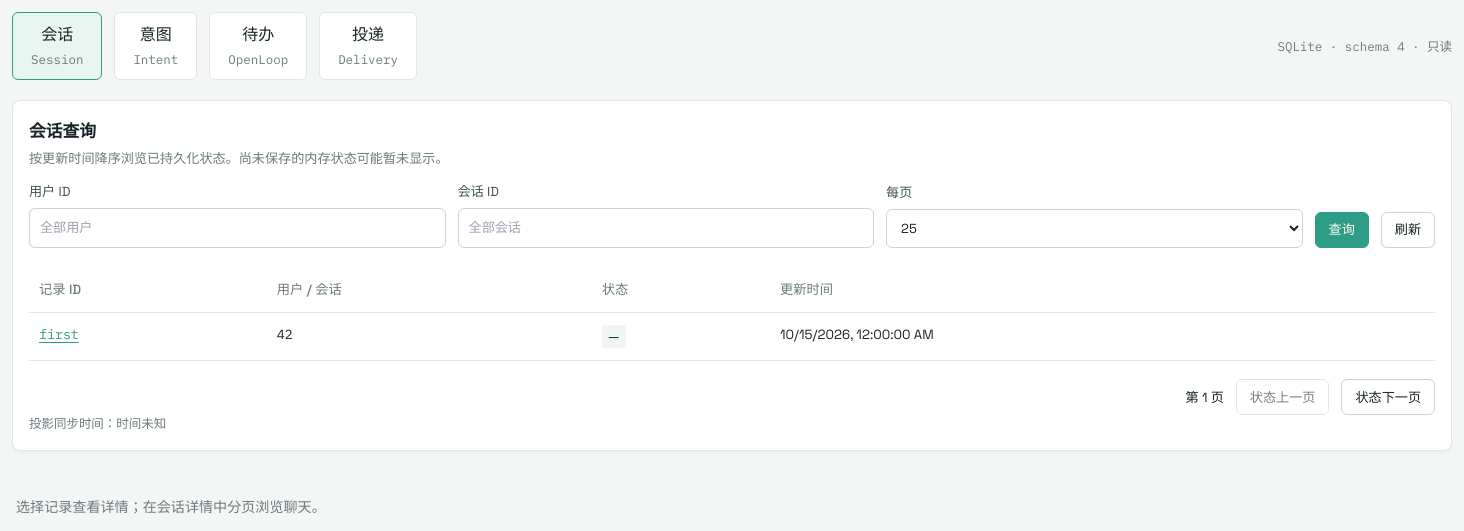
Test case: state queries › discards stale pagination and restarts from the first page on 409
Click the button "状态下一页" at [1388, 397], box [1341,379,1435,415]
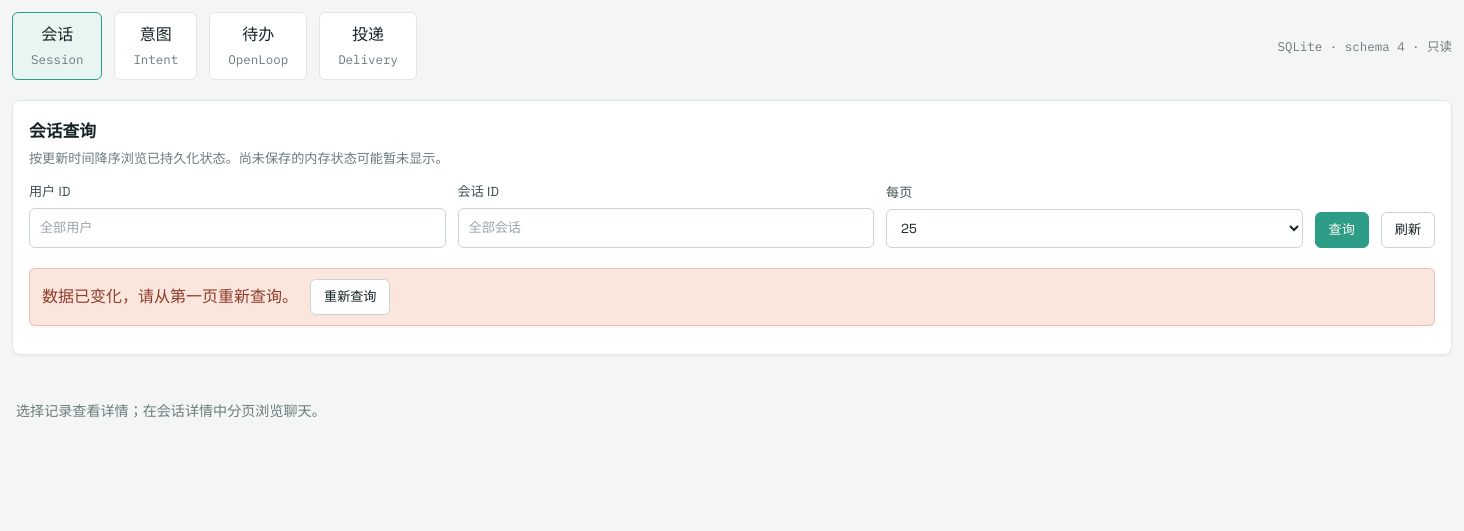
Expected: the message "数据已变化，请从第一页重新查询。 重新查询" is shown, [29,268,1435,326]
Click the button "重新查询" at [350, 297], box [310,279,390,315]
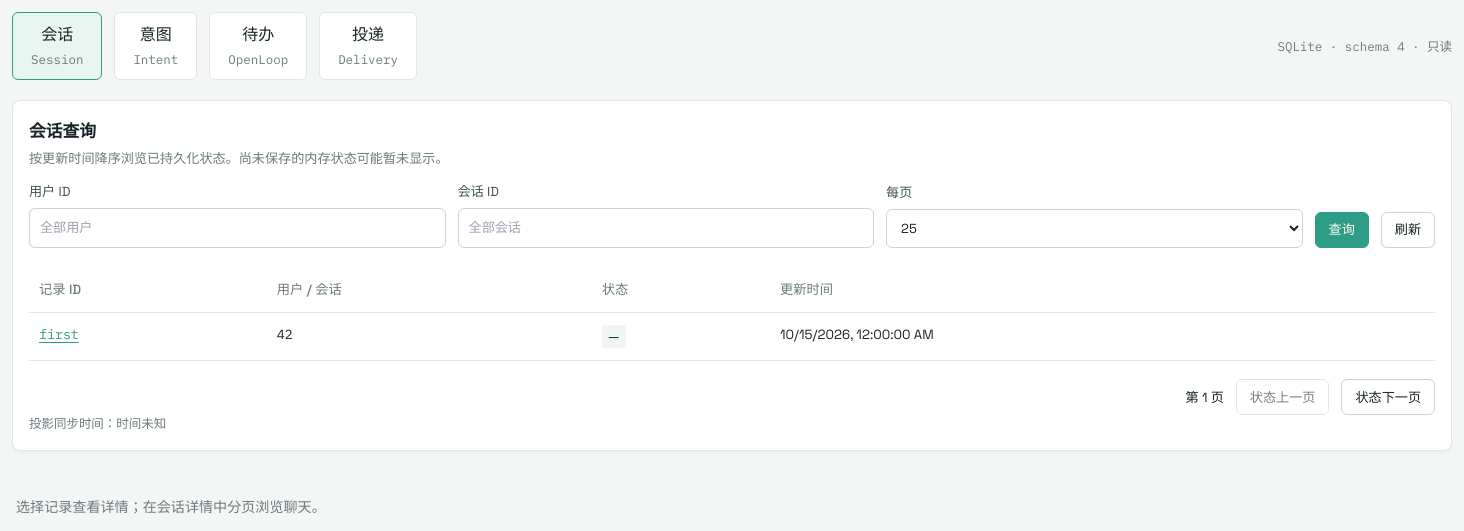
Expected: the button with aria-label "查看 first" is shown, [39,324,79,344]
